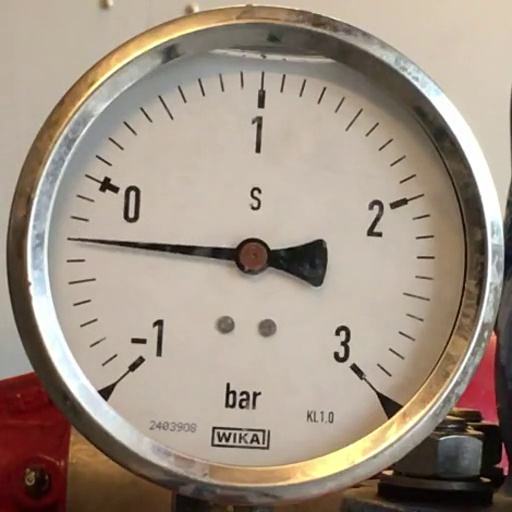base: (235, 237, 270, 275)
circle_plate: (48, 54, 466, 466)
maximum: (350, 362, 366, 380)
minimum: (128, 356, 146, 372)
number: (130, 318, 166, 358), (366, 198, 386, 239), (332, 324, 352, 364), (122, 184, 142, 224), (250, 114, 264, 156)
tip: (76, 235, 83, 243)
